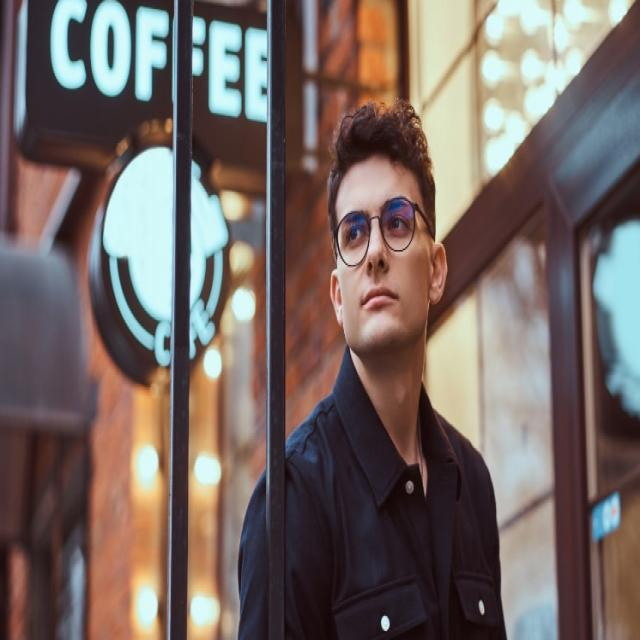Glasses: (332, 192, 432, 273)
